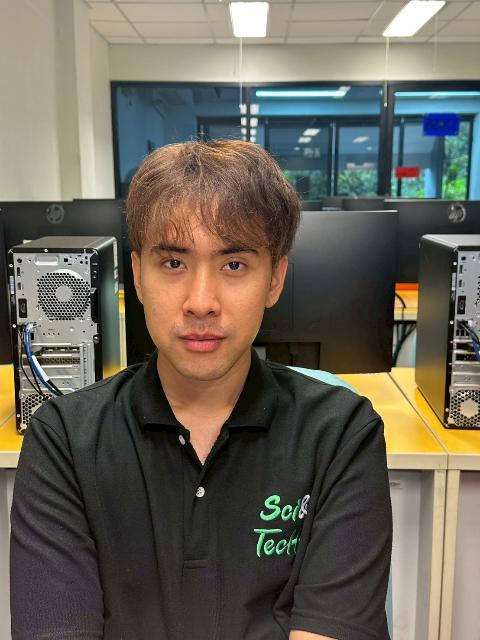fokus: (126, 137, 289, 373)
